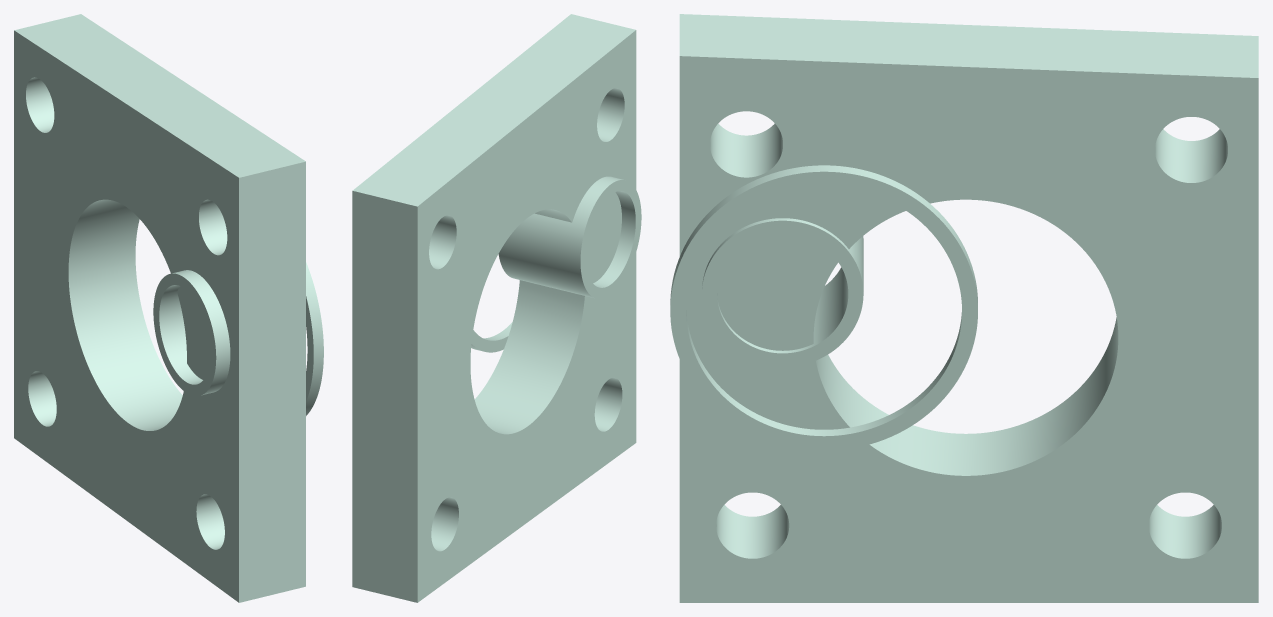
The picture shows the model from 3 angles, left to right: view 1: azimuth 30°, elevation 25°; view 2: azimuth 150°, elevation 25°; view 3: azimuth 270°, elevation 25°; orthographic projection. The views are drawn at different scales.
Visible parts, largest first — view 1: Renderer Node; view 2: Renderer Node; view 3: Renderer Node.
Boxes of the visible parts, x1,y1,x2,y2 form: Renderer Node: [14, 14, 323, 602]; Renderer Node: [352, 14, 641, 602]; Renderer Node: [670, 14, 1258, 602].
Size of the model in its own units: 0.3672 by 1.56 by 1.52.
